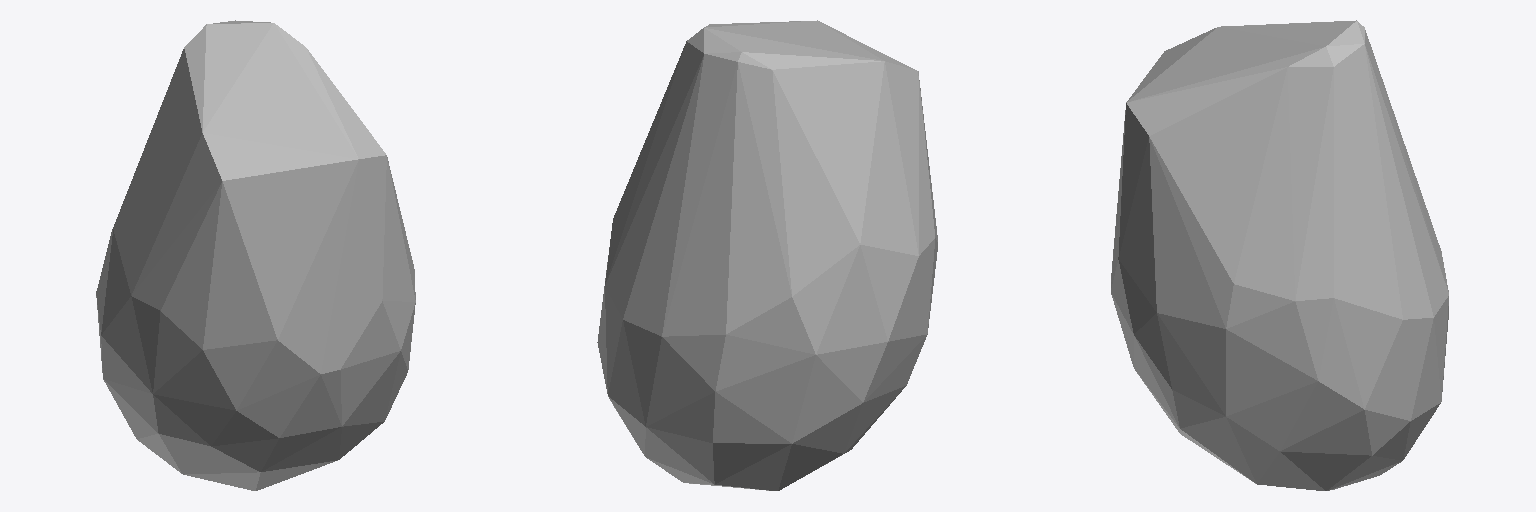
robot.urdf — root:
<robot name="root">
  <link name="link_15c7f7e95367aa59cc34b900bb2492e_convex_piece_0">
    <inertial>
      <origin rpy="0 0 0" xyz="0 0 0"/>
      <mass value="4.92E-05"/>
      <inertia ixx="1.55E-08" ixy="1.89E-10" ixz="-3.84E-10" iyy="1.48E-08" iyz="-1.30E-09" izz="9.92E-09"/>
    </inertial>
    <visual>
      <origin rpy="0 0 0" xyz="0 0 0"/>
      <geometry>
        <mesh filename="15c7f7e95367aa59cc34b900bb2492e_convex_piece_0.obj" scale="1.0000E+00"/>
      </geometry>
      <material name="">
        <color rgba="7.50E-01 7.50E-01 7.50E-01 1"/>
      </material>
    </visual>
    <collision>
      <origin rpy="0 0 0" xyz="0 0 0"/>
      <geometry>
        <mesh filename="15c7f7e95367aa59cc34b900bb2492e_convex_piece_0.obj" scale="1.0000E+00"/>
      </geometry>
    </collision>
  </link>
</robot>

--- Render facts (derived) ---
3 views of the same robot in one strip: view 1: azimuth 30°, elevation 25°; view 2: azimuth 150°, elevation 25°; view 3: azimuth 270°, elevation 25° (orthographic).
Model root with 1 links and 0 joints (none), rooted at link_15c7f7e95367aa59cc34b900bb2492e_convex_piece_0, posed all joints at 0.
Visible links, largest first — view 1: link_15c7f7e95367aa59cc34b900bb2492e_convex_piece_0; view 2: link_15c7f7e95367aa59cc34b900bb2492e_convex_piece_0; view 3: link_15c7f7e95367aa59cc34b900bb2492e_convex_piece_0.
Boxes of the visible links, x1=… form: link_15c7f7e95367aa59cc34b900bb2492e_convex_piece_0: x1=96, y1=20, x2=415, y2=490; link_15c7f7e95367aa59cc34b900bb2492e_convex_piece_0: x1=597, y1=20, x2=937, y2=490; link_15c7f7e95367aa59cc34b900bb2492e_convex_piece_0: x1=1111, y1=20, x2=1448, y2=490.
Bounding box of the posed robot: 0.0438 × 0.0459 × 0.0668 m (x, y, z).
Meshes: 1 distinct files referenced, 1 mesh visuals loaded (1 OBJ).